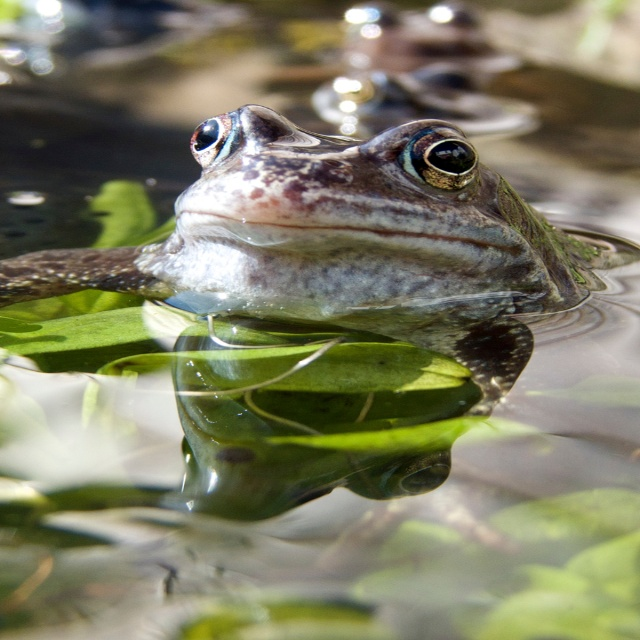Frog: (0, 102, 615, 582)
